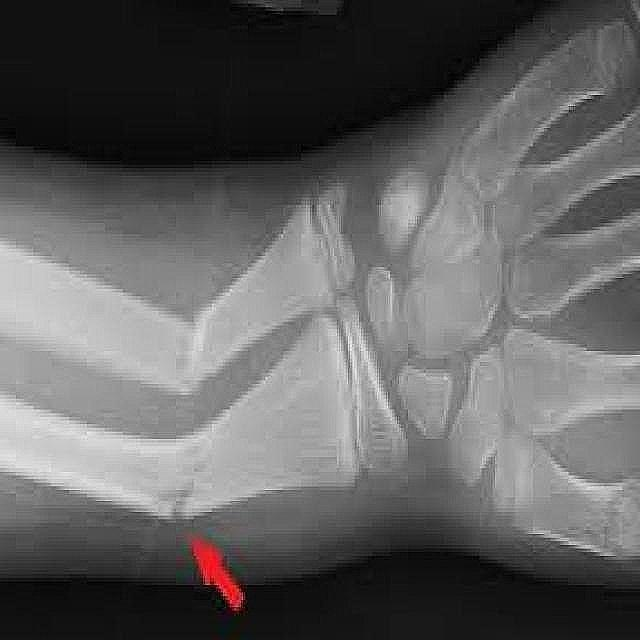bone: (144, 298, 224, 413), (142, 420, 213, 532)
